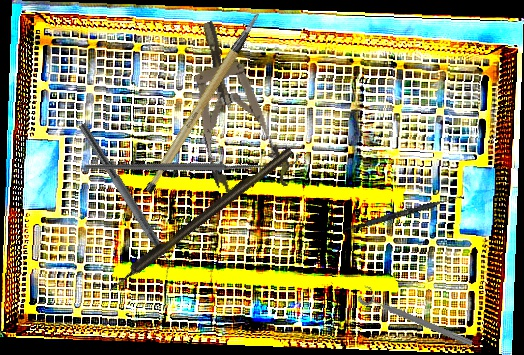Chopper: (68, 122, 181, 281)
Fixation Ring: (356, 283, 478, 351)
Hook Surgical: (82, 64, 302, 260), (104, 145, 296, 294)
Scalpel Handle: (122, 11, 287, 197)
Spatula Surgical: (340, 191, 465, 236)
Speculum: (172, 11, 295, 205)
